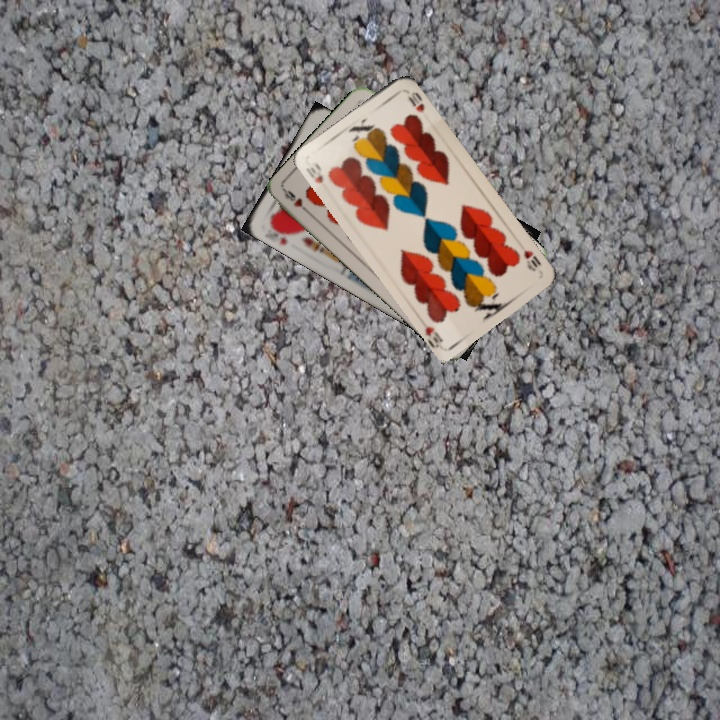H10: (520, 245, 544, 274), (302, 159, 326, 186)
H9: (280, 186, 314, 217)
HK: (265, 219, 292, 248)
